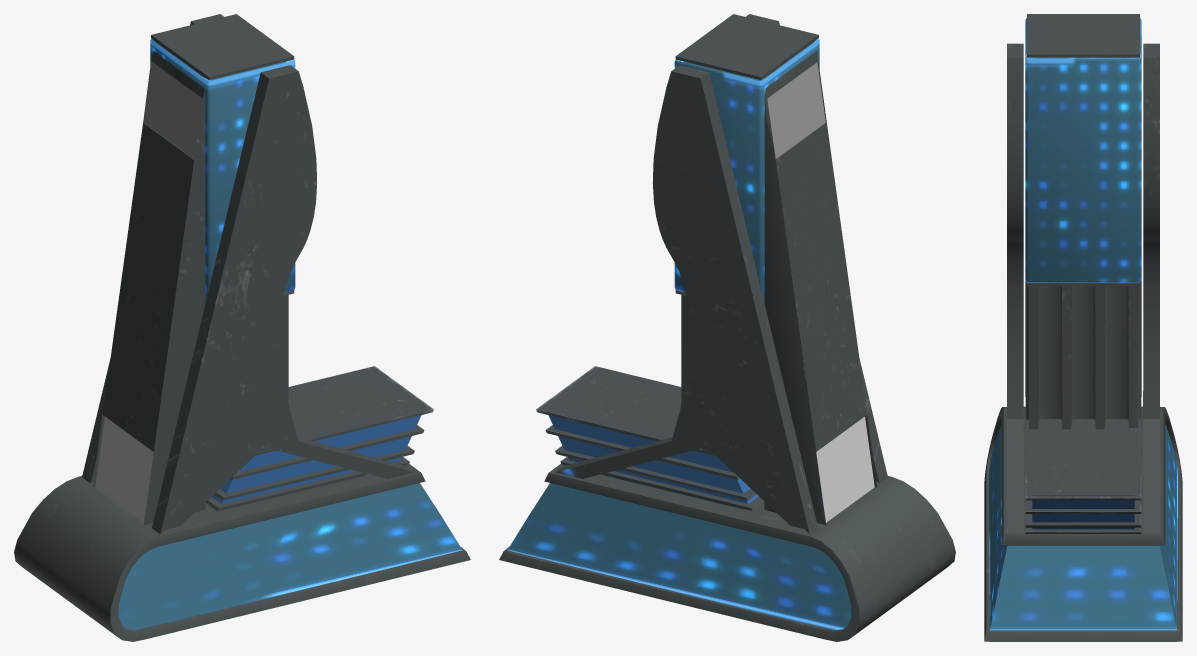
The model's file is BLD1310019.fbx.
3 views of the same model, side by side, from view 1: azimuth 30°, elevation 25°; view 2: azimuth 150°, elevation 25°; view 3: azimuth 270°, elevation 25° (orthographic). The views are drawn at different scales.
Visible parts, largest first — view 1: smBLD1310019; view 2: smBLD1310019; view 3: smBLD1310019.
Boxes of the visible parts, x1,y1,x2,y2 form: smBLD1310019: (14, 14, 470, 641); smBLD1310019: (499, 14, 955, 641); smBLD1310019: (984, 14, 1182, 641).
Size of the model in its own units: 2244 by 3147 by 1101.
3 materials, 1 textured.
